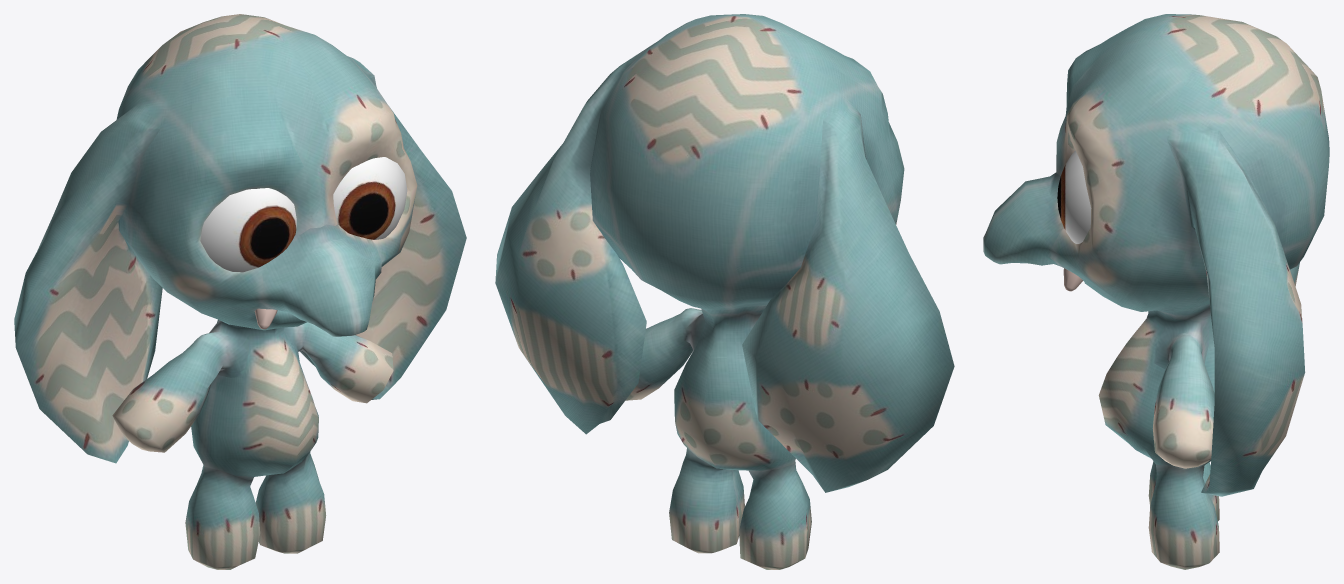
The model's file is toy_plush_elephant.glb.
3 views of the same model, side by side, from view 1: azimuth 30°, elevation 25°; view 2: azimuth 150°, elevation 25°; view 3: azimuth 270°, elevation 25° (orthographic).
Visible parts, largest first — view 1: toy_plush_elephant; view 2: toy_plush_elephant; view 3: toy_plush_elephant.
Boxes of the visible parts, x1,y1,x2,y2 form: toy_plush_elephant: (14, 14, 466, 569); toy_plush_elephant: (495, 14, 954, 569); toy_plush_elephant: (983, 14, 1329, 569).
Size of the model in its own units: 12.53 by 14 by 8.37.
1 material, 1 textured.
